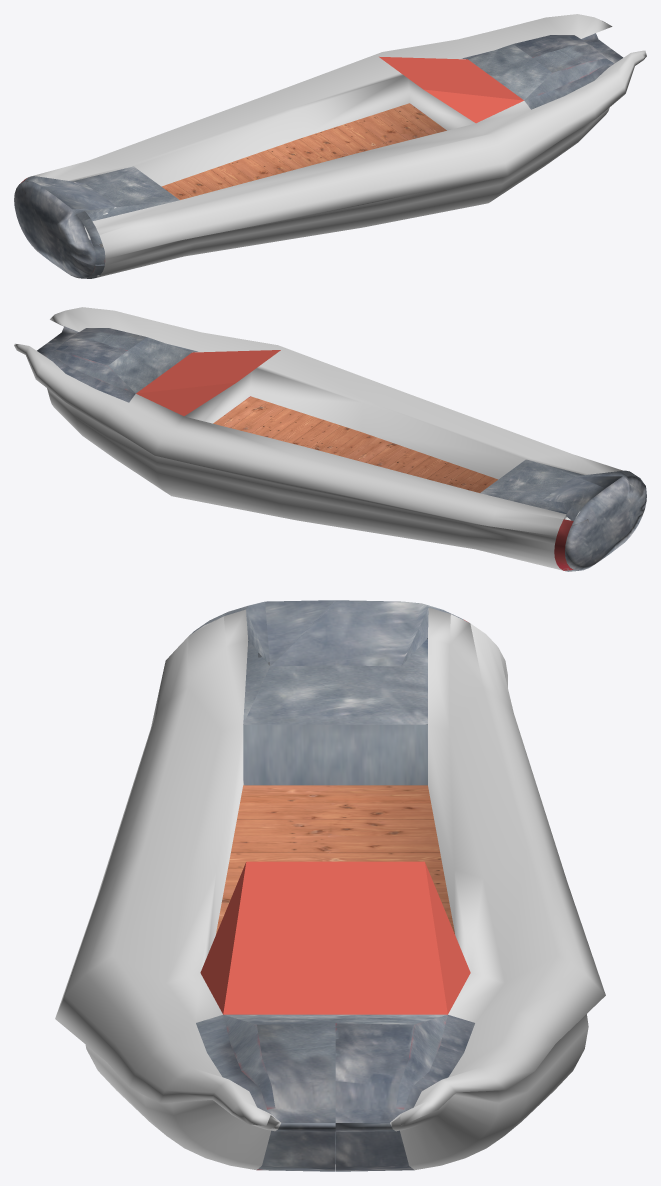
Rendered from ExportedBlenderFBXFile.fbx.
3 views of the same model, one above another, from view 1: azimuth 30°, elevation 25°; view 2: azimuth 150°, elevation 25°; view 3: azimuth 270°, elevation 25° (orthographic). The views are drawn at different scales.
Parts seen in each view (by area): view 1: Cylinder; view 2: Cylinder; view 3: Cylinder.
Part boxes in pixels (x1=…): Cylinder: x1=14, y1=14, x2=646, y2=278; Cylinder: x1=14, y1=307, x2=646, y2=571; Cylinder: x1=55, y1=600, x2=605, y2=1171.
Size of the model in its own units: 5.43 by 1.07 by 2.22.
